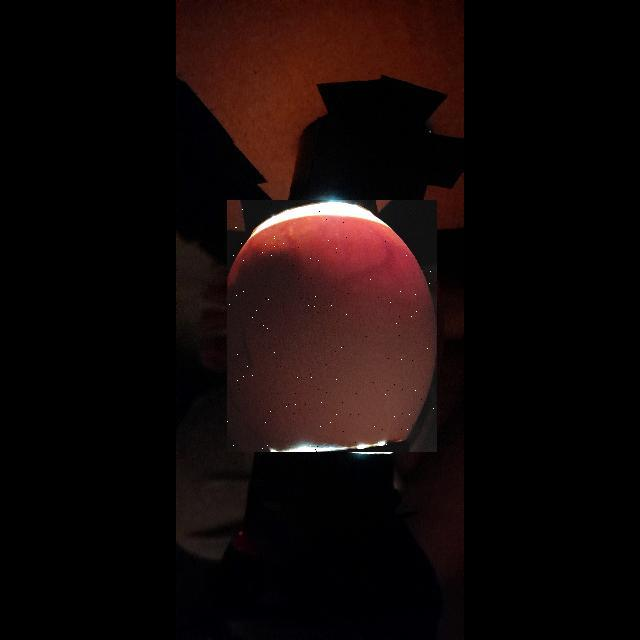Fertile: (227, 200, 437, 452)
